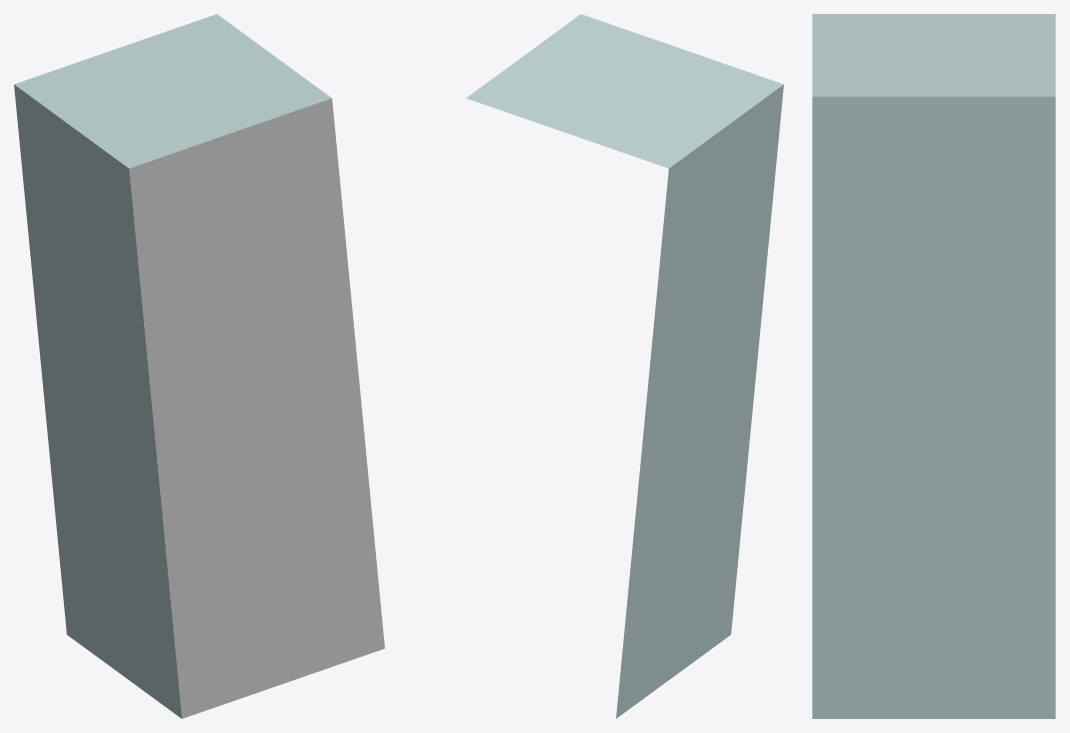
The picture shows the model from 3 angles, left to right: view 1: azimuth 30°, elevation 25°; view 2: azimuth 150°, elevation 25°; view 3: azimuth 270°, elevation 25°; orthographic projection. The views are drawn at different scales.
Visible parts, largest first — view 1: 0_2_3_3_3_1_3_0_1; view 2: 0_2_3_3_3_1_3_0_1; view 3: 0_2_3_3_3_1_3_0_1.
Part boxes in pixels (box(x1,y1,x2,y2)): 0_2_3_3_3_1_3_0_1: box(14, 14, 384, 718); 0_2_3_3_3_1_3_0_1: box(466, 14, 783, 718); 0_2_3_3_3_1_3_0_1: box(812, 14, 1055, 718).
Bounding box in the file's own units: 3.85 × 8.4 × 3.
